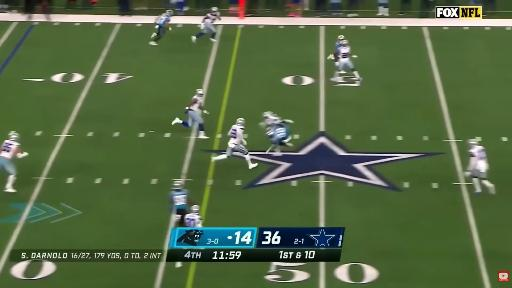Helmet: (171, 182, 183, 193), (191, 205, 201, 216), (236, 116, 246, 126), (469, 139, 478, 148), (9, 133, 19, 141), (267, 129, 275, 138), (263, 112, 273, 117), (341, 39, 348, 46), (197, 88, 203, 96), (212, 7, 218, 14), (338, 36, 344, 41), (167, 11, 174, 15)
Jersey: (335, 46, 354, 70), (170, 189, 188, 210), (0, 140, 19, 159), (270, 124, 289, 143), (228, 125, 244, 146), (184, 213, 203, 228), (202, 12, 221, 25), (470, 146, 486, 161), (337, 46, 350, 60), (190, 96, 202, 111), (155, 14, 170, 26), (266, 115, 282, 123)
Player: (212, 118, 257, 169), (172, 89, 208, 138), (0, 132, 28, 192), (466, 139, 495, 194), (328, 36, 361, 81), (192, 7, 221, 42), (266, 120, 292, 153), (170, 181, 188, 226), (150, 10, 173, 45), (260, 112, 294, 129), (185, 206, 202, 227), (260, 112, 276, 128), (334, 35, 345, 51)
